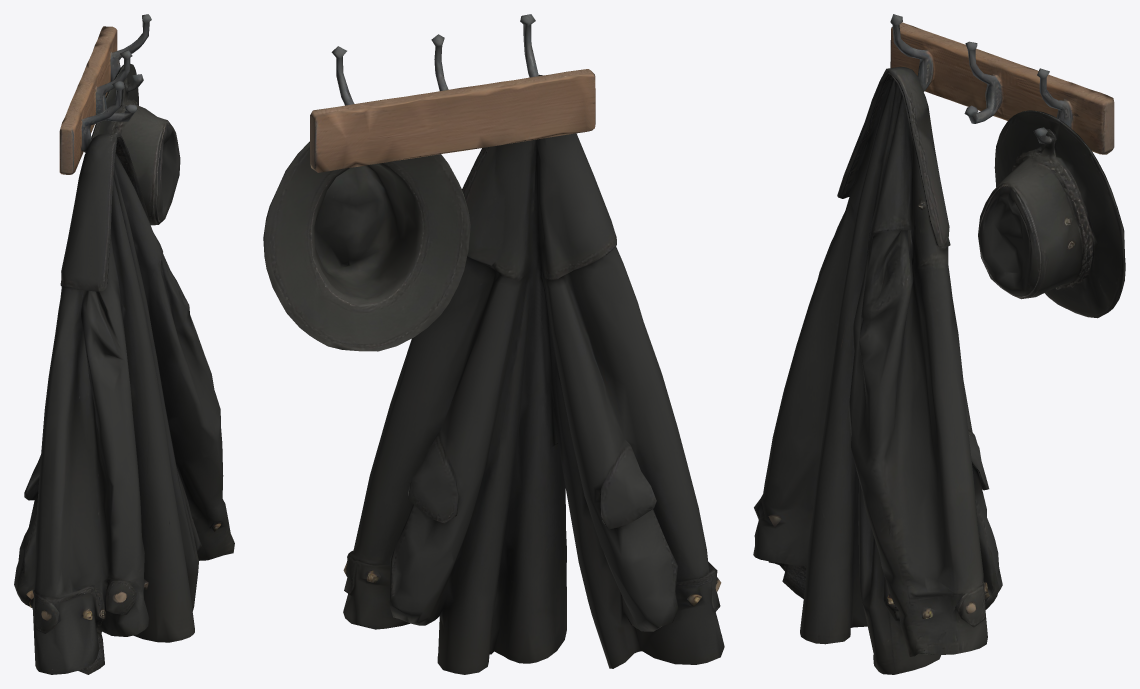
Rendered from cappotto.glb.
The picture shows the model from 3 angles, left to right: view 1: azimuth 30°, elevation 25°; view 2: azimuth 150°, elevation 25°; view 3: azimuth 270°, elevation 25°; orthographic projection. The views are drawn at different scales.
Visible parts, largest first — view 1: tripo_node_17c2f689-5048-4bb0-a37c-a9c8a0c3855f; view 2: tripo_node_17c2f689-5048-4bb0-a37c-a9c8a0c3855f; view 3: tripo_node_17c2f689-5048-4bb0-a37c-a9c8a0c3855f.
Boxes of the visible parts, bbox=[...] form: tripo_node_17c2f689-5048-4bb0-a37c-a9c8a0c3855f: bbox=[14, 14, 234, 674]; tripo_node_17c2f689-5048-4bb0-a37c-a9c8a0c3855f: bbox=[263, 14, 724, 674]; tripo_node_17c2f689-5048-4bb0-a37c-a9c8a0c3855f: bbox=[753, 14, 1125, 674].
Size of the model in its own units: 0.2828 by 0.6 by 0.3245.
1 material, 1 textured.
